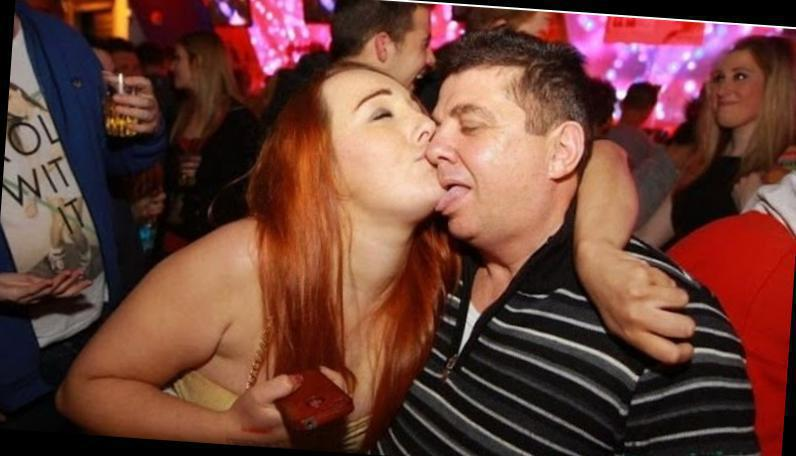Drunk: (430, 75, 543, 239), (328, 75, 444, 219)
